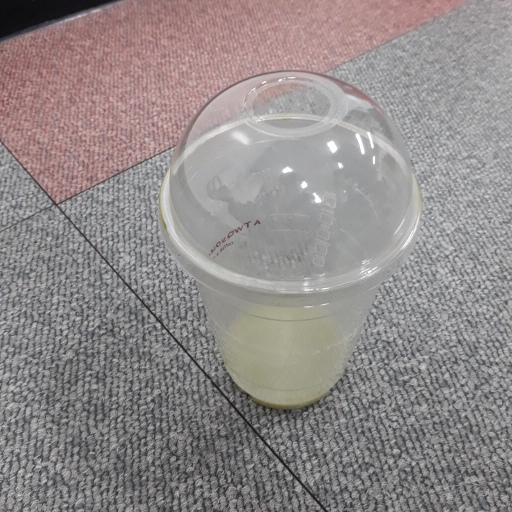Plastic_2: (157, 69, 422, 407)
